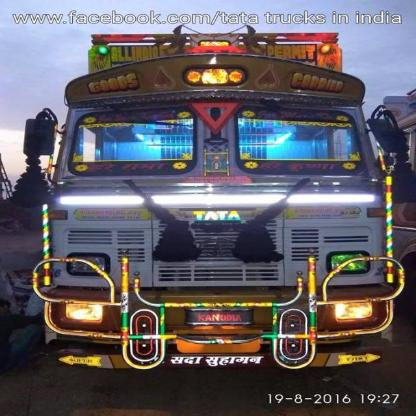truck: (23, 36, 393, 366)
